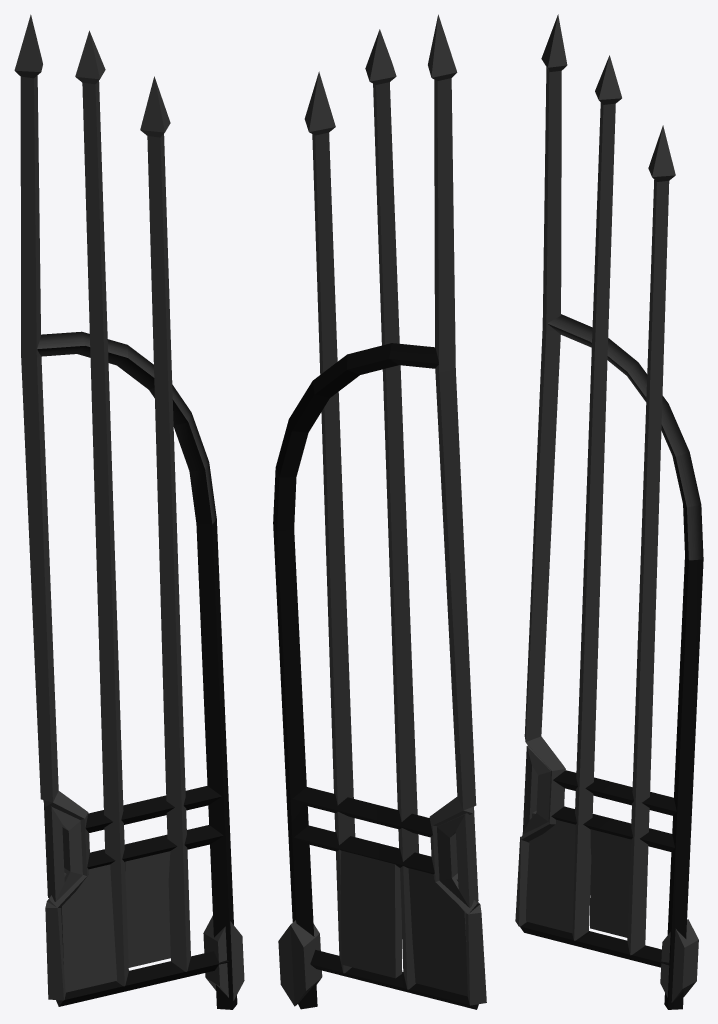
The model's file is ea_arch_gate_01a_pre_1_lev1.glb.
The picture shows the model from 3 angles, left to right: view 1: azimuth 30°, elevation 25°; view 2: azimuth 150°, elevation 25°; view 3: azimuth 330°, elevation 25°; orthographic projection. The views are drawn at different scales.
Parts seen in each view (by area): view 1: ea_arch_gate_01a_pre_1_lev1; view 2: ea_arch_gate_01a_pre_1_lev1; view 3: ea_arch_gate_01a_pre_1_lev1.
Part boxes in pixels (x1,y1,x2,y2): ea_arch_gate_01a_pre_1_lev1: (14,14,244,1009); ea_arch_gate_01a_pre_1_lev1: (273,14,486,1009); ea_arch_gate_01a_pre_1_lev1: (515,14,703,1009).
Size of the model in its own units: 1.59 by 7.97 by 0.7311.
1 material, 1 textured.
